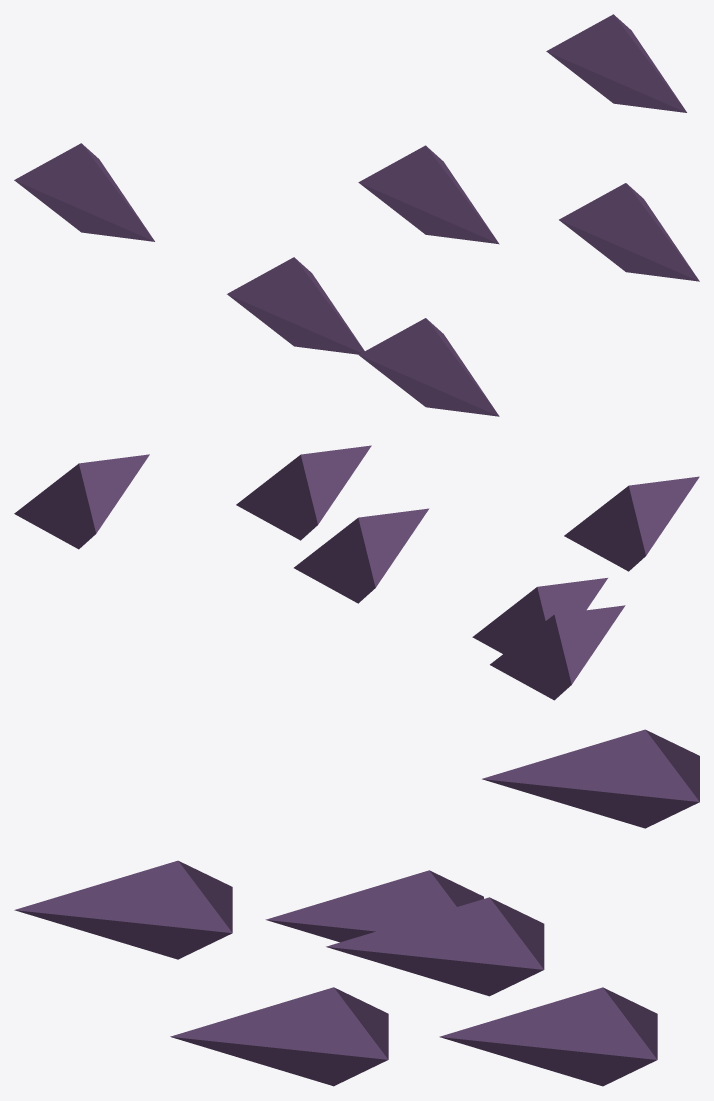
Rendered from BlackBronzeArrowheadStack6Plus.glb.
3 views of the same model, one above another, from view 1: azimuth 30°, elevation 25°; view 2: azimuth 150°, elevation 25°; view 3: azimuth 270°, elevation 25° (orthographic). The views are drawn at different scales.
Parts seen in each view (by area): view 1: BlackBronzeArrowheadStack6Plus; view 2: BlackBronzeArrowheadStack6Plus; view 3: BlackBronzeArrowheadStack6Plus.
Part boxes in pixels (box(x1,y1,x2,y2)): BlackBronzeArrowheadStack6Plus: box(14, 14, 699, 416); BlackBronzeArrowheadStack6Plus: box(14, 445, 699, 700); BlackBronzeArrowheadStack6Plus: box(14, 729, 699, 1086).
Bounding box in the file's own units: 0.3541 × 0.1006 × 0.3171.
